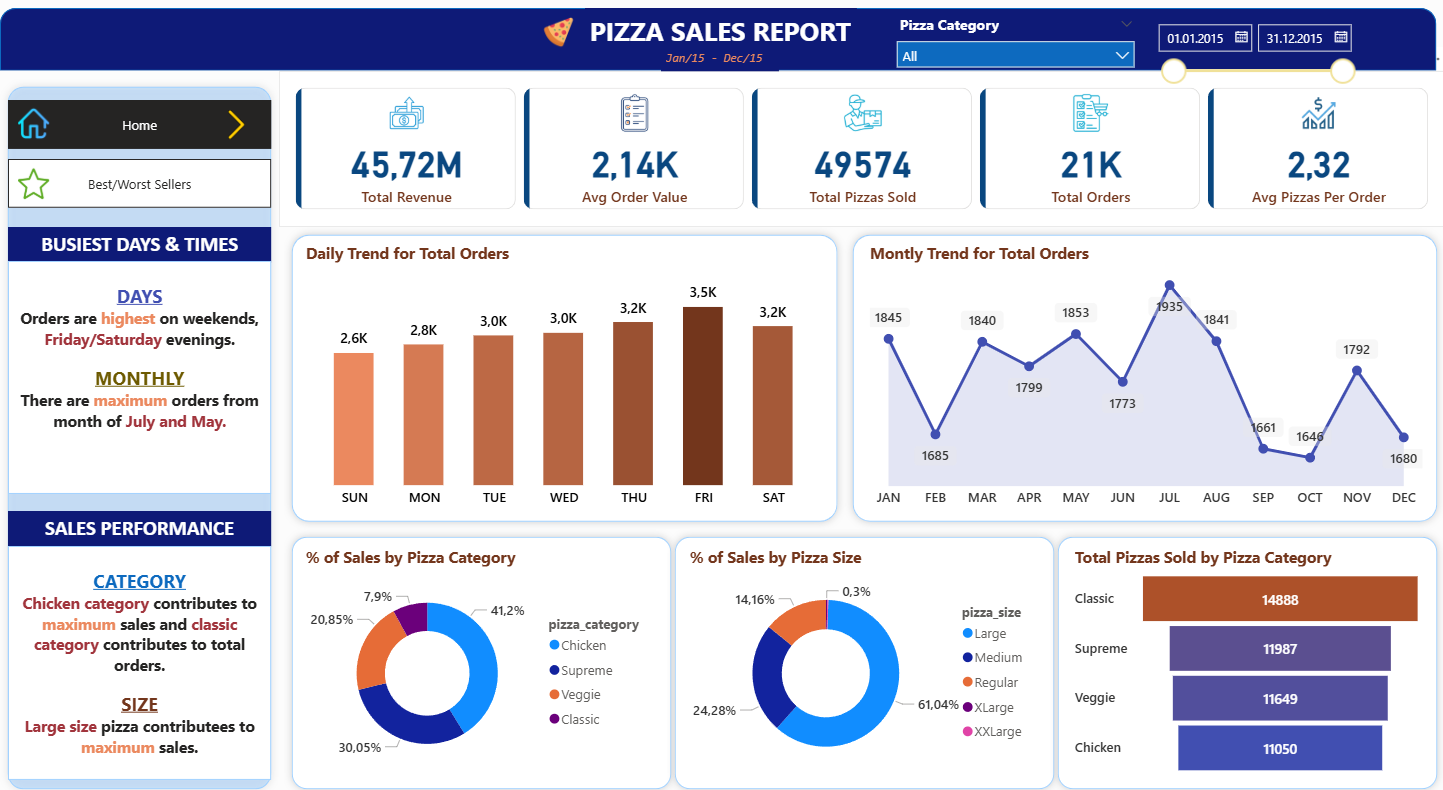

The page's visual inventory and layout, read from the dashboard file:
{"tool":"powerbi","page":{"name":"Home","canvas":[1500,820],"ordinal":0},"visuals":[{"type":"shape","box":[10.3,82.8,286.2,736.8],"z":0},{"type":"cardVisual","fields":{"Data":["pizza_sales.Total Revenue","pizza_sales.Avg Order Value","pizza_sales.Total Pizzas Sold","pizza_sales.Total Orders","pizza_sales.Avg Pizzas Per Order"]},"box":[296.2,74.8,1196.8,159.7],"z":2000},{"type":"shape","box":[10.3,10.3,1473.6,64.4],"z":3000},{"type":"textbox","box":[610,10,278.8,51.2],"z":4000},{"type":"textbox","box":[688.5,46,120.7,28.7],"z":5000},{"type":"image","box":[543.8,20,78.8,31.2],"z":6000},{"type":"shape","box":[301.1,234.5,575.9,310.3],"z":7000},{"type":"columnChart","title":"Daily Trend for Total Orders","fields":{"Category":["pizza_sales.Order Day"],"Y":["pizza_sales.Total Orders"]},"box":[319.5,250.6,540.2,280.5],"z":8000},{"type":"shape","box":[877.4,234.5,615.6,310.3],"z":9000},{"type":"areaChart","title":"Montly Trend for Total Orders","fields":{"Category":["pizza_sales.Order Month"],"Y":["pizza_sales.Total Orders"]},"box":[897.7,250.6,577,280.5],"z":10000},{"type":"shape","box":[301.2,544.8,405.3,274.9],"z":11000},{"type":"shape","box":[694.4,544.8,405.3,274.9],"z":12000},{"type":"shape","box":[1087.6,544.8,405.3,274.9],"z":13000},{"type":"donutChart","title":"% of Sales by Pizza Category","fields":{"Category":["pizza_sales.pizza_category"],"Y":["pizza_sales.Total Revenue"]},"box":[319.5,562.1,369,240.2],"z":14000},{"type":"donutChart","title":"% of Sales by Pizza Size","fields":{"Category":["pizza_sales.pizza_size"],"Y":["pizza_sales.Total Revenue"]},"box":[712.6,562.1,369,240.2],"z":15000},{"type":"funnel","title":"Total Pizzas Sold by Pizza Category","fields":{"Category":["pizza_sales.pizza_category"],"Y":["pizza_sales.Total Pizzas Sold"]},"box":[1108,562.1,366.7,240.2],"z":16000},{"type":"textbox","box":[18.4,234.5,270.1,35.6],"z":17000},{"type":"textbox","box":[18.4,270.1,270.1,239.1],"z":18000},{"type":"textbox","box":[18.4,526.4,270.1,35.6],"z":19000},{"type":"textbox","box":[18.4,562.1,270.1,240.2],"z":20000},{"type":"slicer","fields":{"Values":["pizza_sales.pizza_category"]},"box":[920.7,12.6,264.4,62.1],"z":21000},{"type":"slicer","fields":{"Values":["pizza_sales.order_date"]},"box":[1186.2,0,223,155.2],"z":22000},{"type":"pageNavigator","box":[18.4,104.6,270.1,50.6],"z":23000},{"type":"pageNavigator","box":[18.4,165.5,270.1,50.6],"z":24000},{"type":"image","box":[231,114.9,44.8,29.9],"z":25000},{"type":"image","box":[28.7,108,32.2,42.5],"z":26000},{"type":"image","box":[28.7,159.8,32.2,60.9],"z":27000}]}

Visuals, with their boxes in screenshot pixels (x1, y1, x2, y2), scaled from the page's 1500x820 canvas onto the 1443x790 screenshot:
shape: box(10, 80, 285, 789)
cardVisual - pizza_sales.Total Revenue x pizza_sales.Avg Order Value: box(285, 72, 1436, 226)
shape: box(10, 10, 1428, 72)
textbox: box(587, 10, 855, 59)
textbox: box(662, 44, 778, 72)
image: box(523, 19, 599, 49)
shape: box(290, 226, 844, 525)
"Daily Trend for Total Orders" columnChart: box(307, 241, 827, 512)
shape: box(844, 226, 1436, 525)
"Montly Trend for Total Orders" areaChart: box(864, 241, 1419, 512)
shape: box(290, 525, 680, 789)
shape: box(668, 525, 1058, 789)
shape: box(1046, 525, 1436, 789)
"% of Sales by Pizza Category" donutChart: box(307, 542, 662, 773)
"% of Sales by Pizza Size" donutChart: box(686, 542, 1040, 773)
"Total Pizzas Sold by Pizza Category" funnel: box(1066, 542, 1419, 773)
textbox: box(18, 226, 278, 260)
textbox: box(18, 260, 278, 491)
textbox: box(18, 507, 278, 541)
textbox: box(18, 542, 278, 773)
slicer - pizza_sales.pizza_category: box(886, 12, 1140, 72)
slicer - pizza_sales.order_date: box(1141, 0, 1356, 150)
pageNavigator: box(18, 101, 278, 150)
pageNavigator: box(18, 159, 278, 208)
image: box(222, 111, 265, 140)
image: box(28, 104, 59, 145)
image: box(28, 154, 59, 213)
